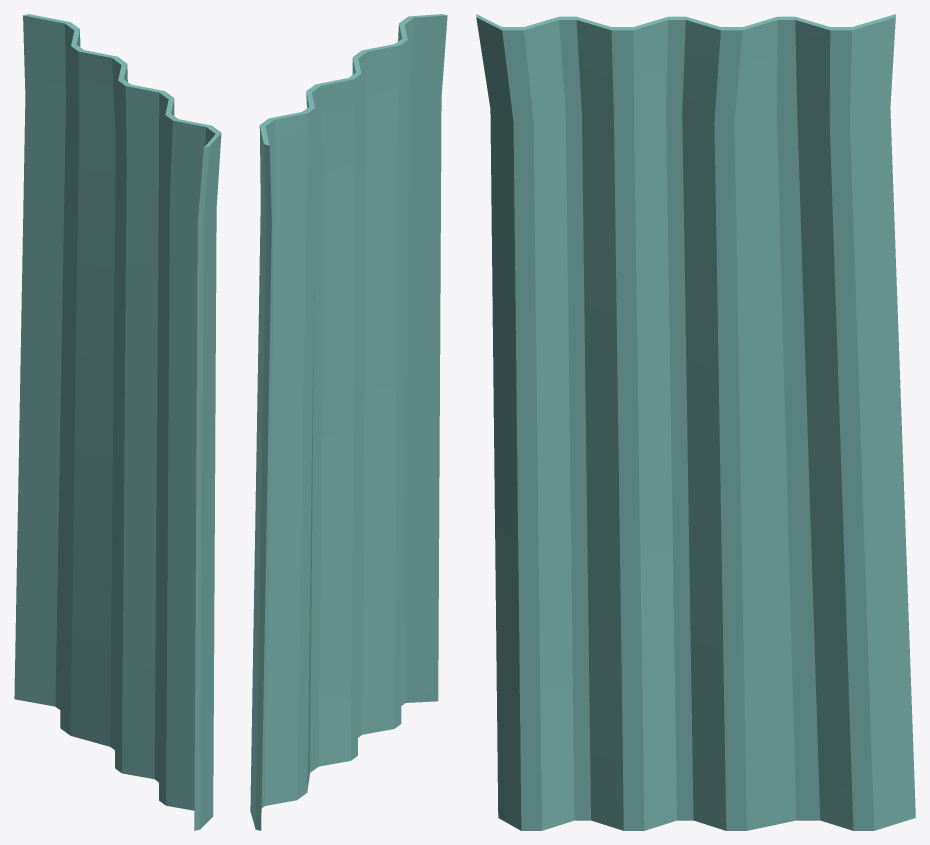
File: Livingroom2_Curtain2.fbx
The picture shows the model from 3 angles, left to right: view 1: azimuth 30°, elevation 25°; view 2: azimuth 150°, elevation 25°; view 3: azimuth 270°, elevation 25°; orthographic projection. The views are drawn at different scales.
Visible parts, largest first — view 1: Livingroom2_Curtain2; view 2: Livingroom2_Curtain2; view 3: Livingroom2_Curtain2.
Boxes of the visible parts, box(x1,y1,x2,y2) form: Livingroom2_Curtain2: box(14, 14, 221, 830); Livingroom2_Curtain2: box(250, 14, 447, 830); Livingroom2_Curtain2: box(476, 14, 915, 830).
Bounding box in the file's own units: 16.35 × 374 × 186.
